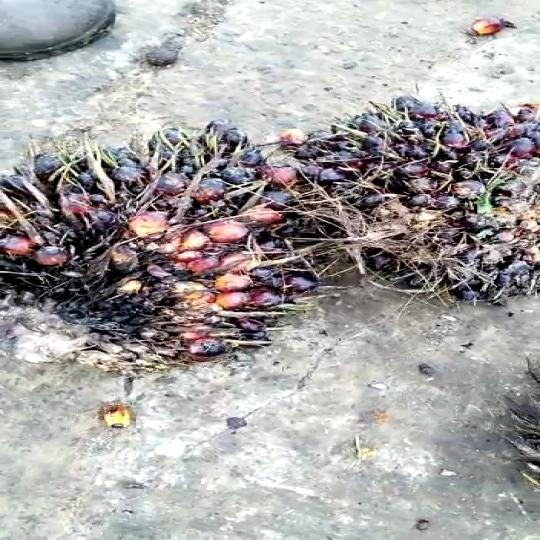kurang masak: (0, 130, 344, 371), (277, 97, 540, 286)
